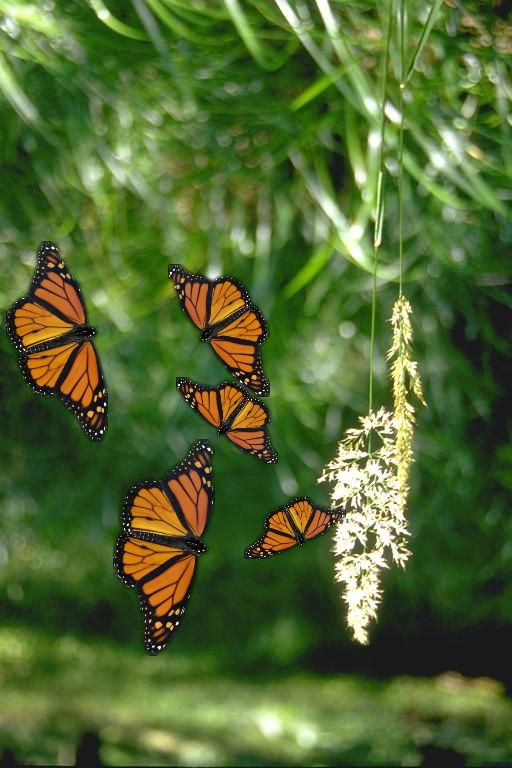danaus_plexippus: (113, 439, 215, 656), (6, 241, 108, 442), (168, 264, 270, 397), (176, 377, 278, 464), (244, 497, 346, 559)
